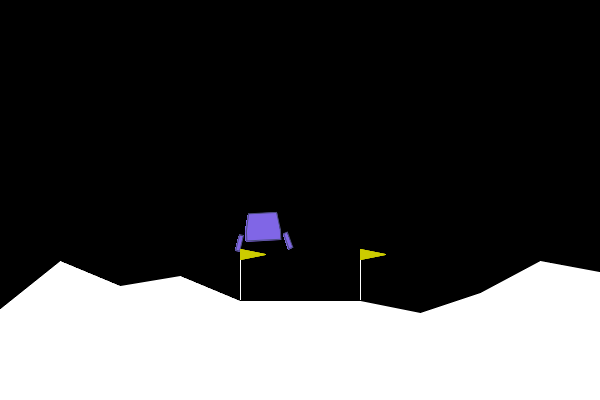lander: (232, 210, 294, 253)
